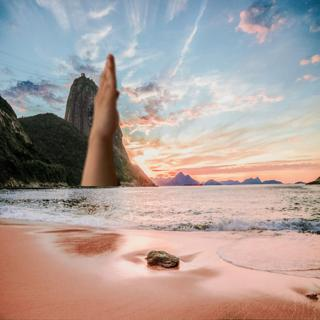RIGHT: (83, 48, 124, 143)
